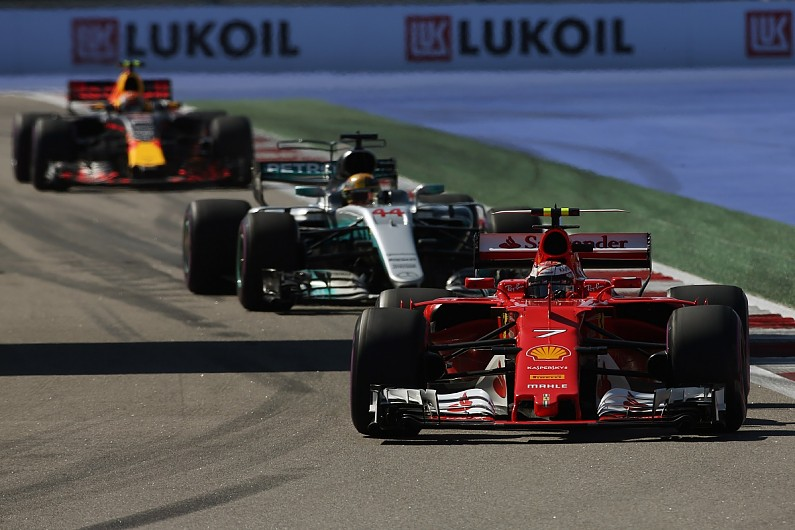race car: (349, 206, 759, 444), (178, 129, 548, 326), (8, 56, 256, 195)
